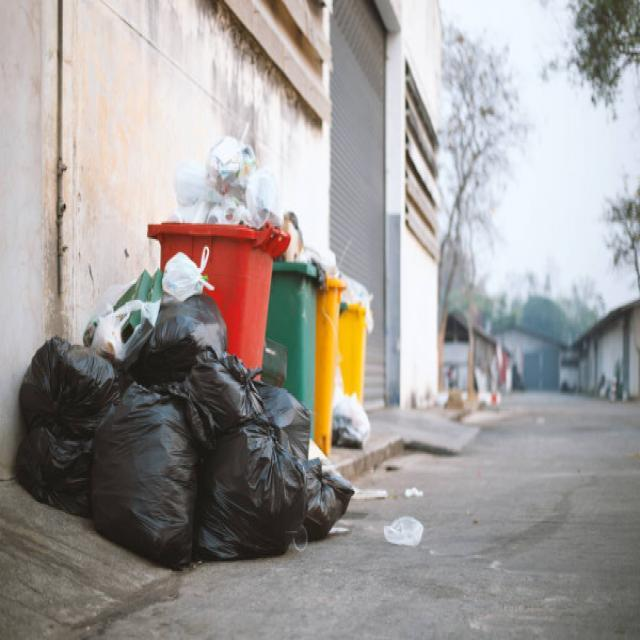garbage: (21, 246, 349, 578), (164, 119, 284, 229), (332, 368, 373, 460), (284, 210, 340, 274), (342, 270, 374, 324)
